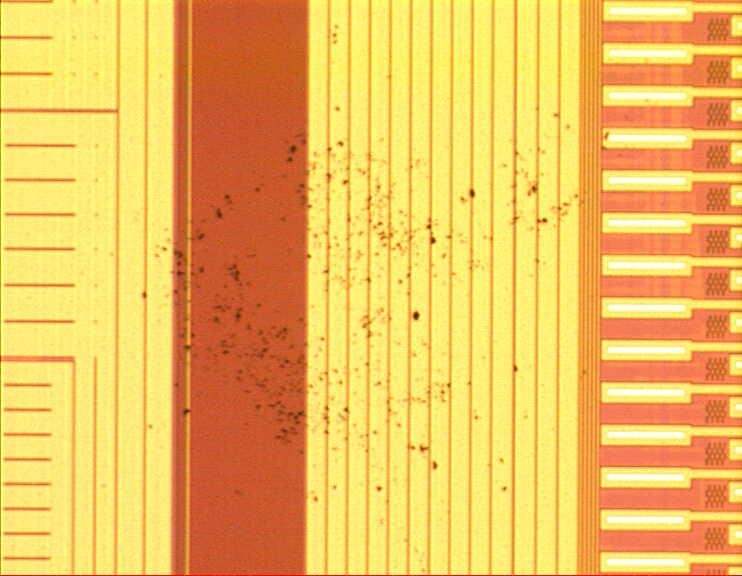PO CONTAMINATION: (134, 19, 591, 509)
